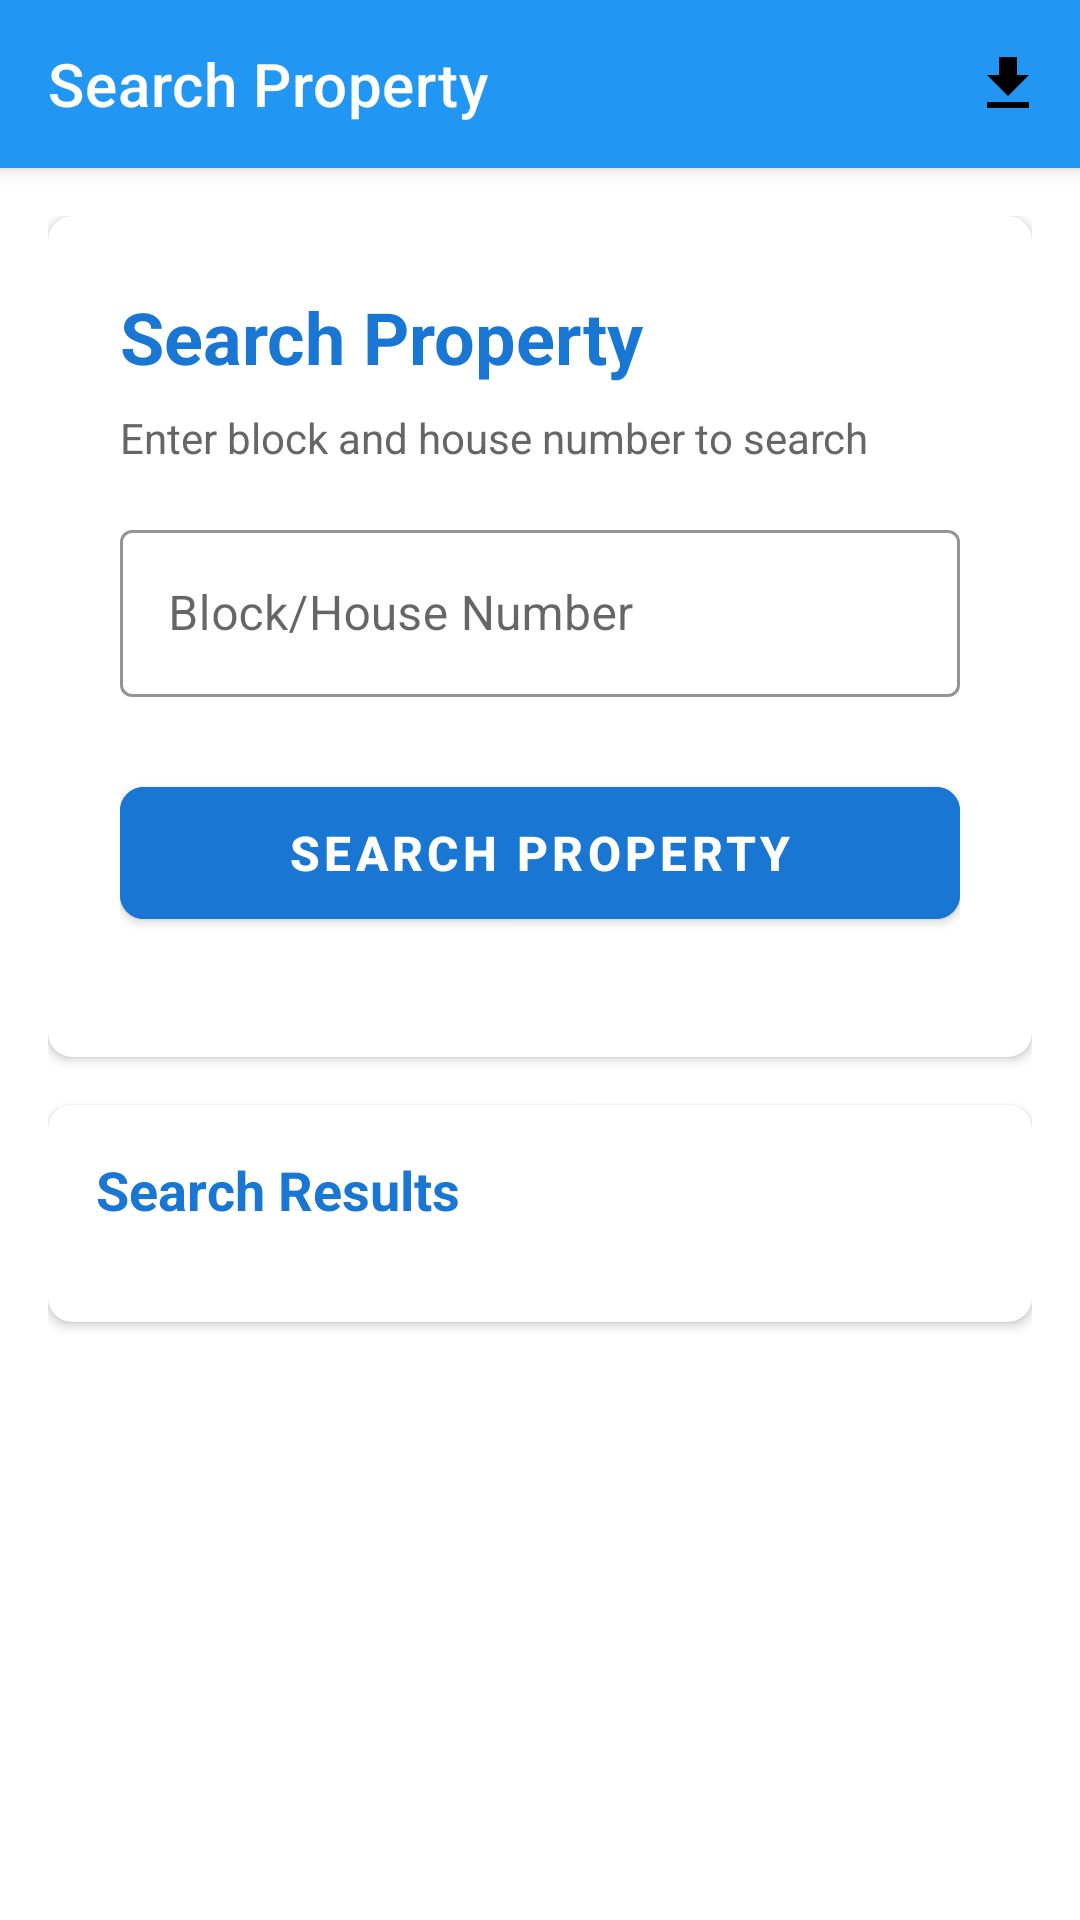

Screen size 1080 × 1920. Icon name, then its center in pixels as [x,y]:
Download PDF: [1008,82]
